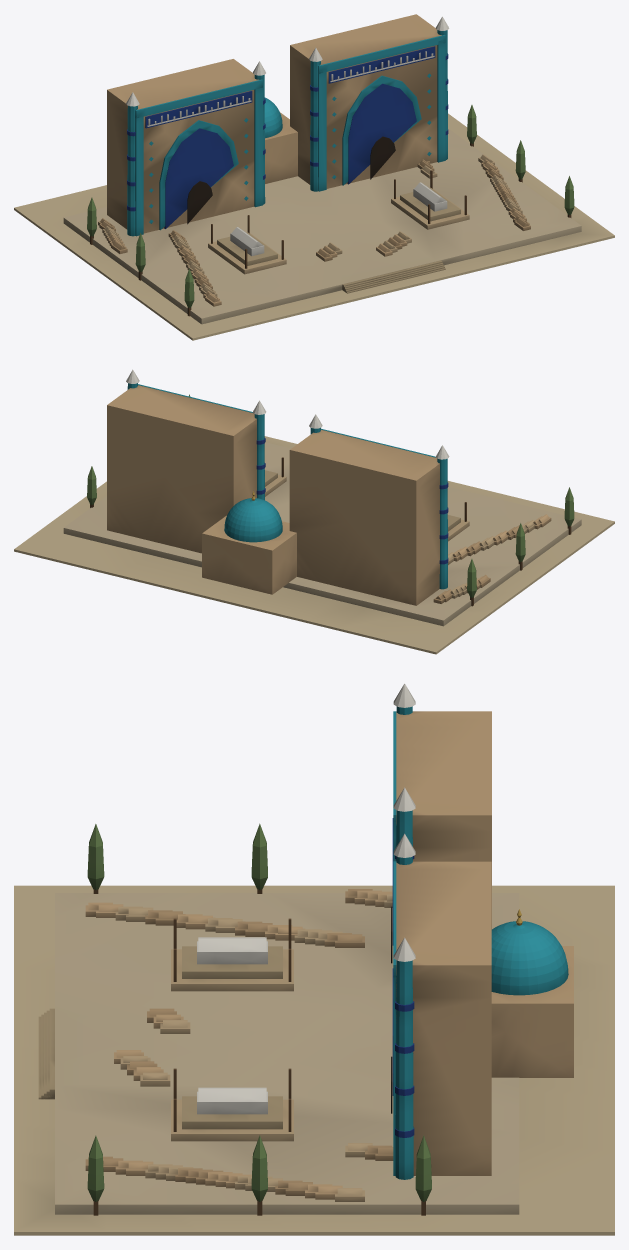
Rendered from askhab.glb.
3 renders of one model, top to bottom at view 1: azimuth 30°, elevation 25°; view 2: azimuth 150°, elevation 25°; view 3: azimuth 270°, elevation 25°, orthographic. The views are drawn at different scales.
Parts seen in each view (by area): view 1: p1_iwans, p0_terrace, p2_graves; view 2: p1_iwans, p0_terrace, p2_graves; view 3: p0_terrace, p1_iwans, p2_graves.
Boxes of the visible parts, left/top/right/bottom form: p1_iwans: left=107, top=14, right=469, bottom=274; p0_terrace: left=14, top=105, right=614, bottom=340; p2_graves: left=98, top=154, right=530, bottom=306; p1_iwans: left=107, top=369, right=469, bottom=605; p0_terrace: left=14, top=394, right=614, bottom=654; p2_graves: left=433, top=514, right=551, bottom=603; p0_terrace: left=14, top=823, right=614, bottom=1235; p1_iwans: left=171, top=683, right=573, bottom=1179; p2_graves: left=85, top=889, right=393, bottom=1201.
Bounding box in the file's own units: 60 × 20.38 × 44.
